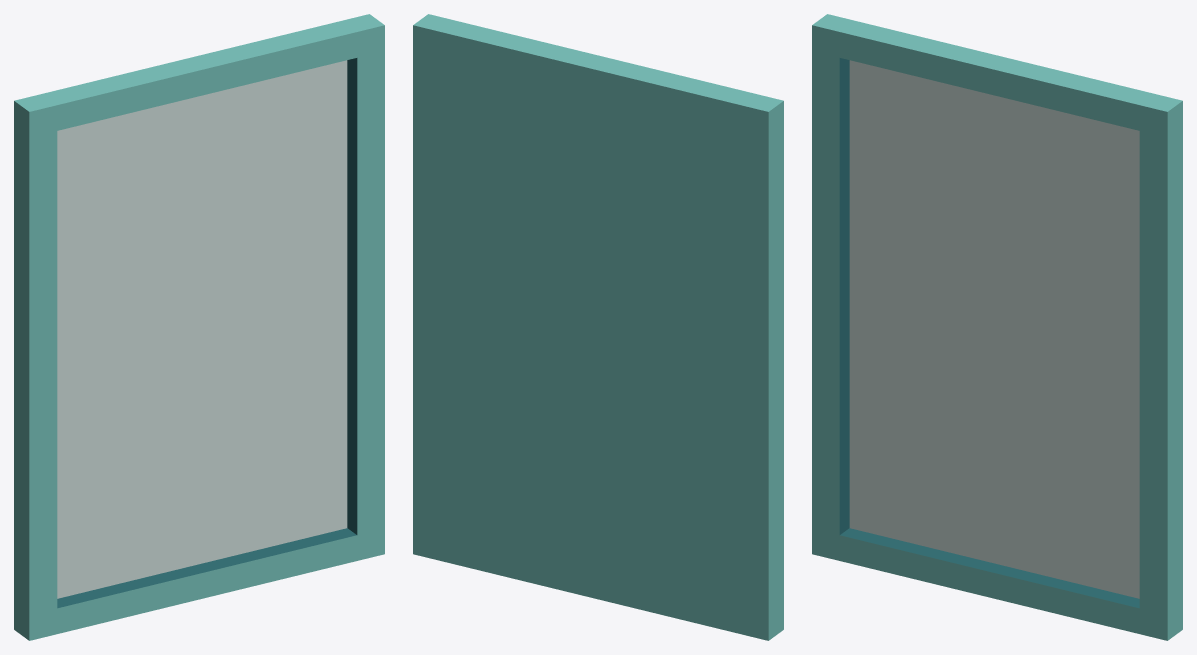
The model's file is Window03.fbx.
3 renders of one model, left to right at view 1: azimuth 30°, elevation 25°; view 2: azimuth 150°, elevation 25°; view 3: azimuth 330°, elevation 25°, orthographic.
Visible parts, largest first — view 1: Standard_Window; view 2: Standard_Window; view 3: Standard_Window.
Part boxes in pixels (x1=…): Standard_Window: x1=14, y1=14, x2=384, y2=640; Standard_Window: x1=413, y1=14, x2=783, y2=640; Standard_Window: x1=812, y1=14, x2=1182, y2=640.
Bounding box in the file's own units: 1783 × 2536 × 133.
